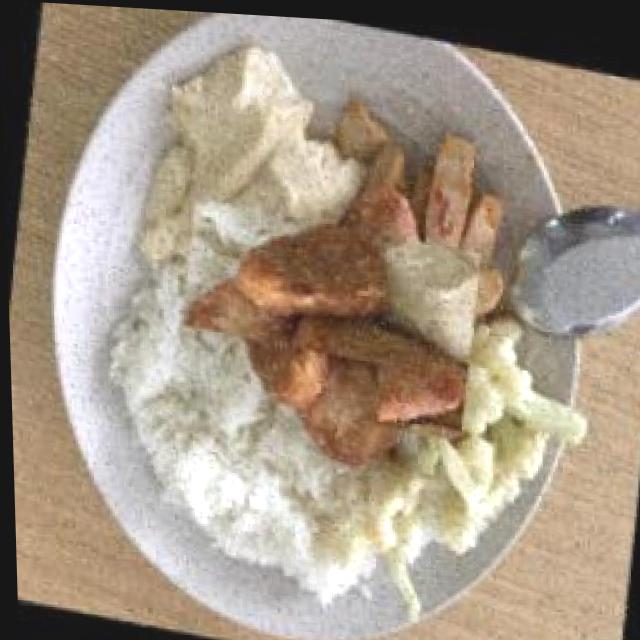rice: (77, 308, 387, 602)
triangle_hash_brown: (187, 174, 466, 459)
